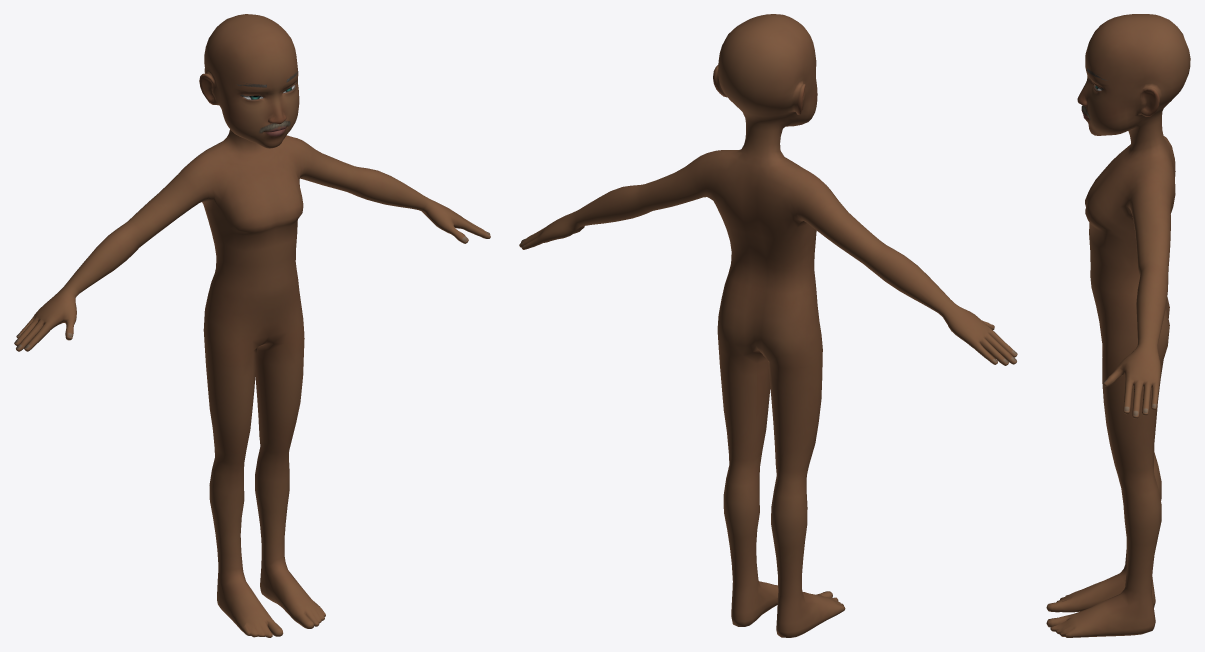
Rendered from frame_0032.glb.
3 views of the same model, side by side, from view 1: azimuth 30°, elevation 25°; view 2: azimuth 150°, elevation 25°; view 3: azimuth 270°, elevation 25° (orthographic). The views are drawn at different scales.
Parts seen in each view (by area): view 1: frame_0032_head_geo; view 2: frame_0032_head_geo; view 3: frame_0032_head_geo.
Part boxes in pixels (left/top/right/bottom): frame_0032_head_geo: left=14, top=14, right=490, bottom=637; frame_0032_head_geo: left=519, top=14, right=1017, bottom=637; frame_0032_head_geo: left=1046, top=14, right=1190, bottom=637.
Size of the model in its own units: 1.28 by 1.5 by 0.3253.
Materials: 3 (3 with a texture image).
